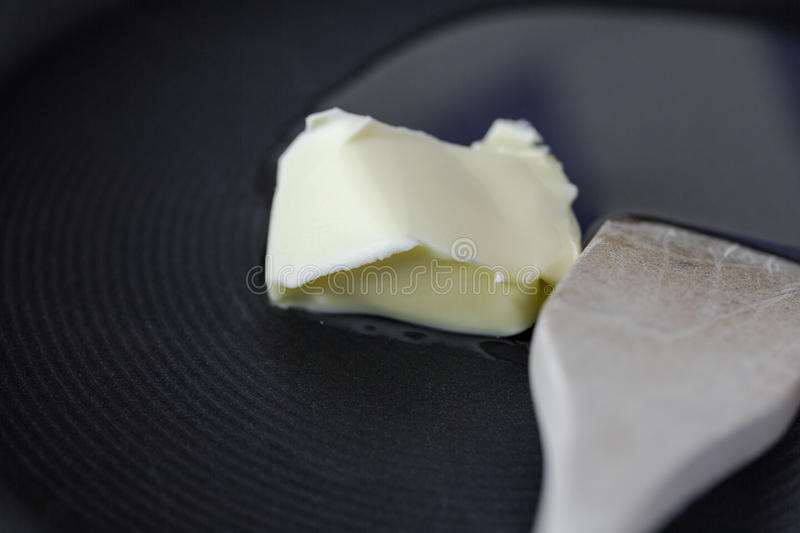Butter: (269, 106, 549, 333)
